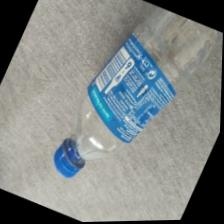plastic: (16, 0, 221, 220)
